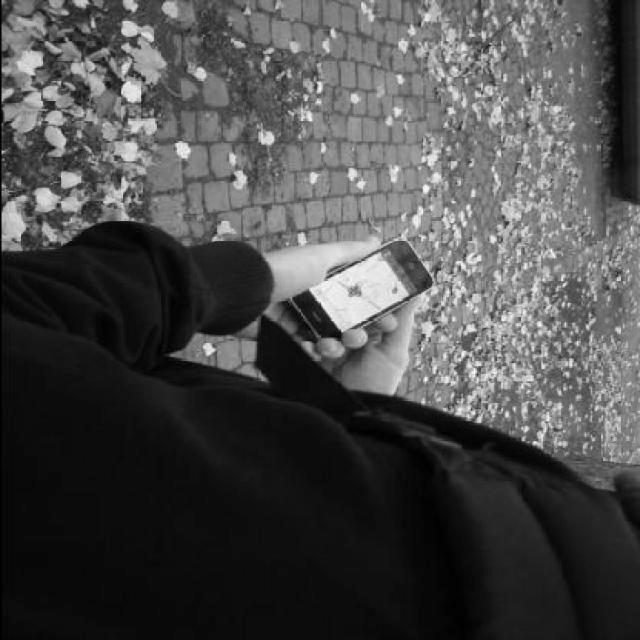fake: (281, 238, 441, 354)
